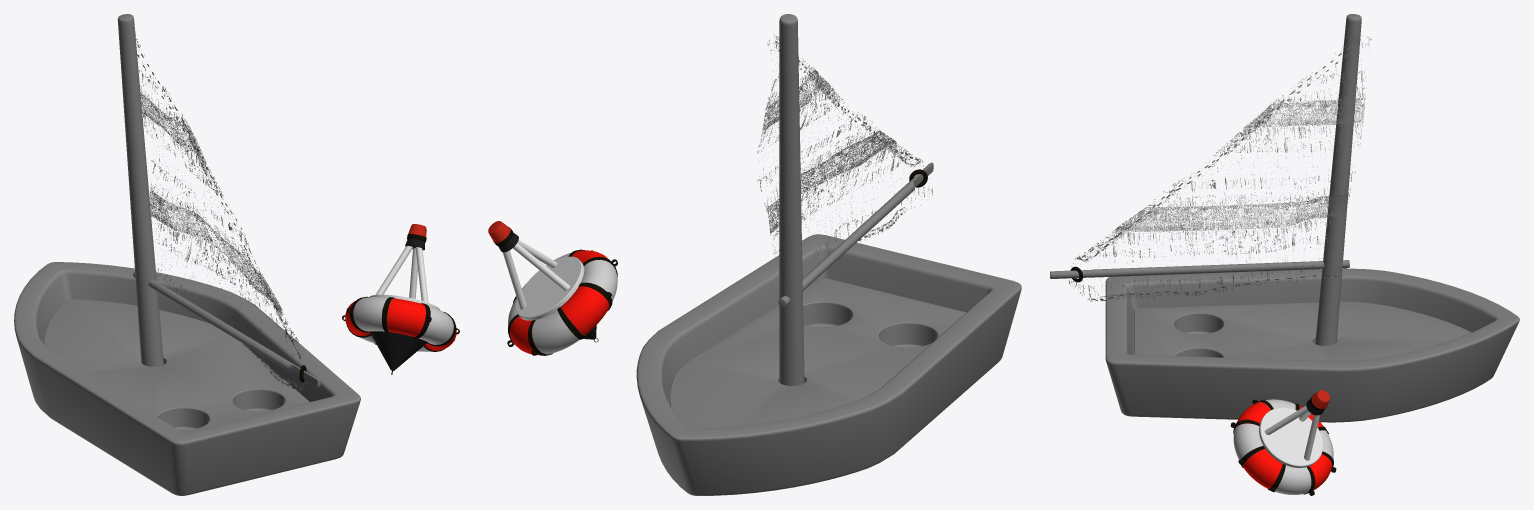
File: yahta.FBX
3 views of the same model, side by side, from view 1: azimuth 30°, elevation 25°; view 2: azimuth 150°, elevation 25°; view 3: azimuth 270°, elevation 25° (orthographic). The views are drawn at different scales.
Parts seen in each view (by area): view 1: Cylinder001, Cylinder002, Line001, Torus002, Cylinder004, Cylinder008, Object002; view 2: Cylinder001, Cylinder002, Line001, Torus002, Cylinder005, Cylinder004, Object002; view 3: Cylinder001, Line001, Cylinder002, Torus002, Cylinder005, Cylinder004, Object002.
Part boxes in pixels (left/top/right/bottom): Cylinder001: left=14, top=262, right=360, bottom=495; Cylinder002: left=117, top=14, right=163, bottom=366; Line001: left=135, top=33, right=306, bottom=397; Torus002: left=345, top=297, right=456, bottom=351; Cylinder004: left=133, top=271, right=321, bottom=387; Cylinder008: left=370, top=331, right=426, bottom=370; Object002: left=346, top=296, right=455, bottom=351; Cylinder001: left=636, top=234, right=1021, bottom=495; Cylinder002: left=779, top=14, right=804, bottom=385; Line001: left=757, top=34, right=932, bottom=306; Torus002: left=508, top=250, right=617, bottom=355; Cylinder005: left=516, top=256, right=584, bottom=320; Cylinder004: left=778, top=162, right=933, bottom=307; Object002: left=508, top=249, right=617, bottom=355; Cylinder001: left=1105, top=268, right=1519, bottom=422; Line001: left=1068, top=34, right=1371, bottom=301; Cylinder002: left=1315, top=14, right=1361, bottom=345; Torus002: left=1233, top=399, right=1333, bottom=494; Cylinder005: left=1259, top=407, right=1323, bottom=467; Cylinder004: left=1050, top=260, right=1349, bottom=278; Object002: left=1233, top=400, right=1333, bottom=494.
Size of the model in its own units: 5.32 by 5.01 by 5.97.
